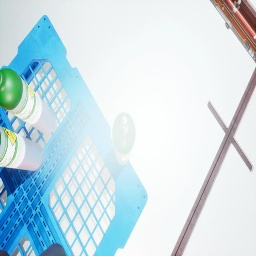0: (0, 68, 56, 135), (0, 126, 43, 171), (112, 112, 136, 165)
NitrogenTank ,: (39, 243, 66, 256), (0, 250, 10, 256)
